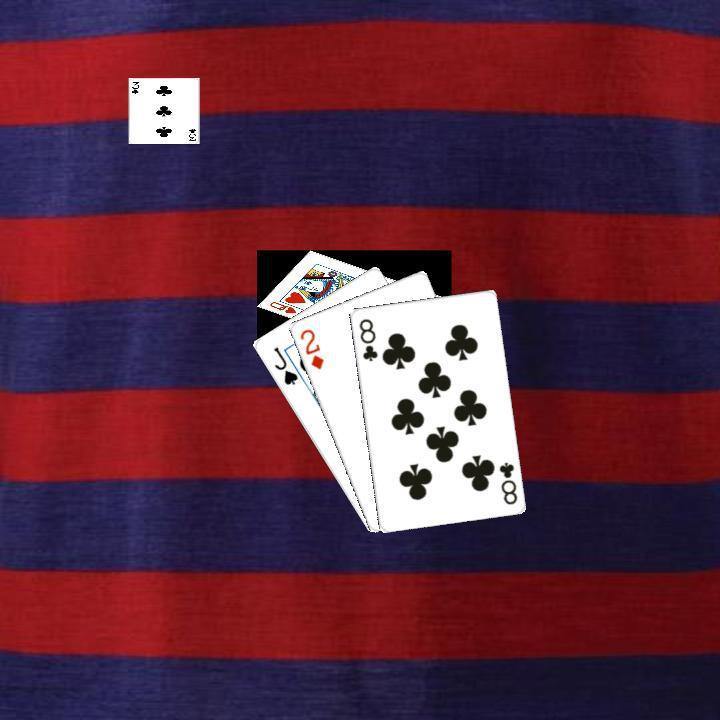2: (295, 324, 326, 371)
8: (354, 314, 379, 363), (495, 457, 519, 506)
J: (269, 342, 300, 387)
